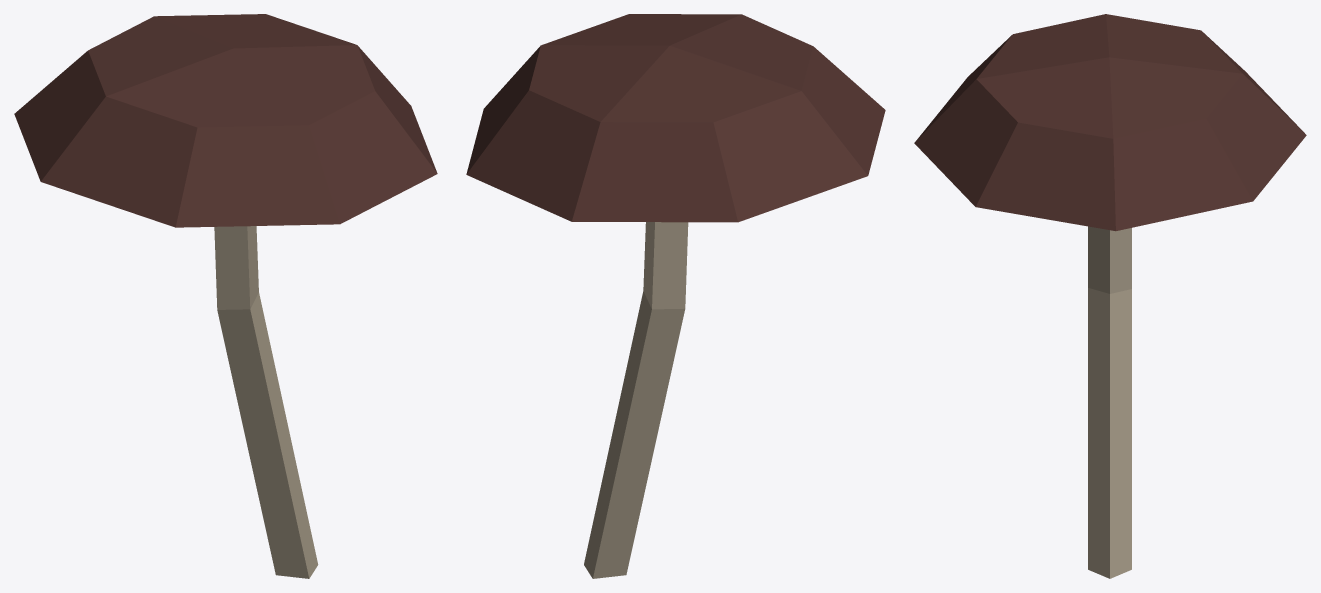
Rendered from Model_Undead_Plants5.fbx.
3 views of the same model, side by side, from view 1: azimuth 30°, elevation 25°; view 2: azimuth 150°, elevation 25°; view 3: azimuth 270°, elevation 25° (orthographic). The views are drawn at different scales.
Parts seen in each view (by area): view 1: cao5; view 2: cao5; view 3: cao5.
Part boxes in pixels (box(x1,y1,x2,y2)): cao5: box(14, 14, 437, 578); cao5: box(466, 14, 885, 578); cao5: box(914, 14, 1306, 578).
Size of the model in its own units: 26.05 by 35.51 by 26.1.
Materials: 1 (1 with a texture image).
